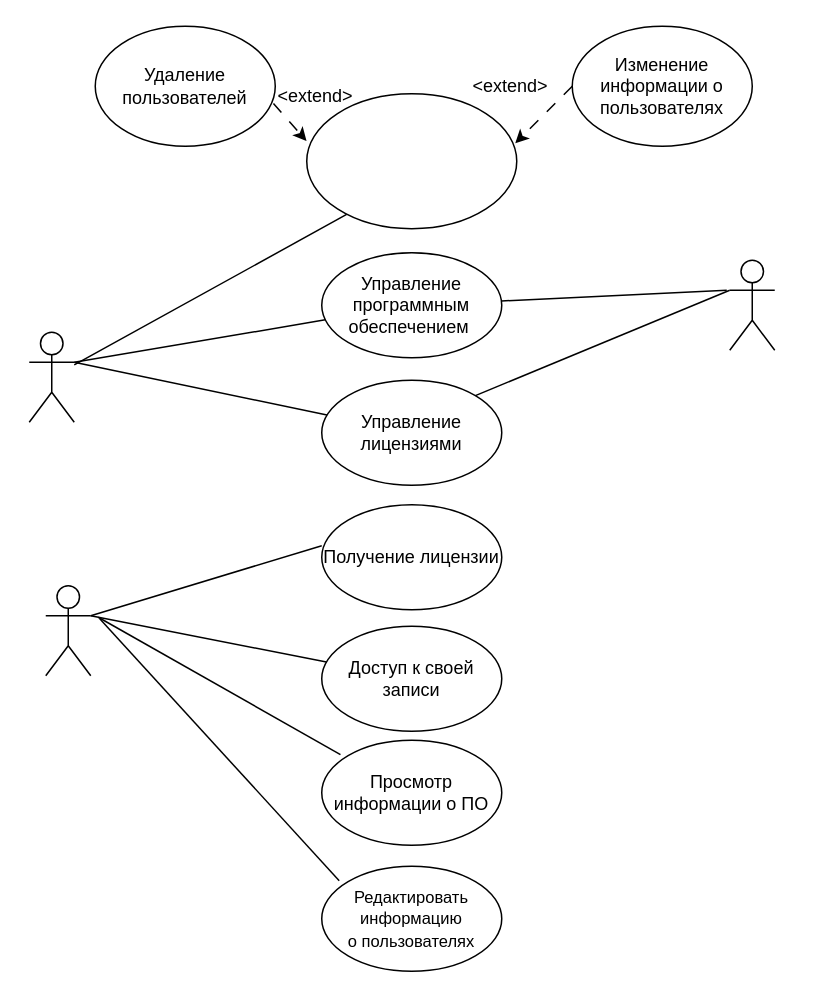
This 813x998 diagram has some shape labels left out. The box of each missing label's shape, as (x1, y1, x2, y2) in pixels:
Admin: (28, 331, 74, 422)
Manager: (728, 259, 775, 350)
User: (44, 584, 91, 676)
Управление пользователями: (305, 92, 517, 229)
